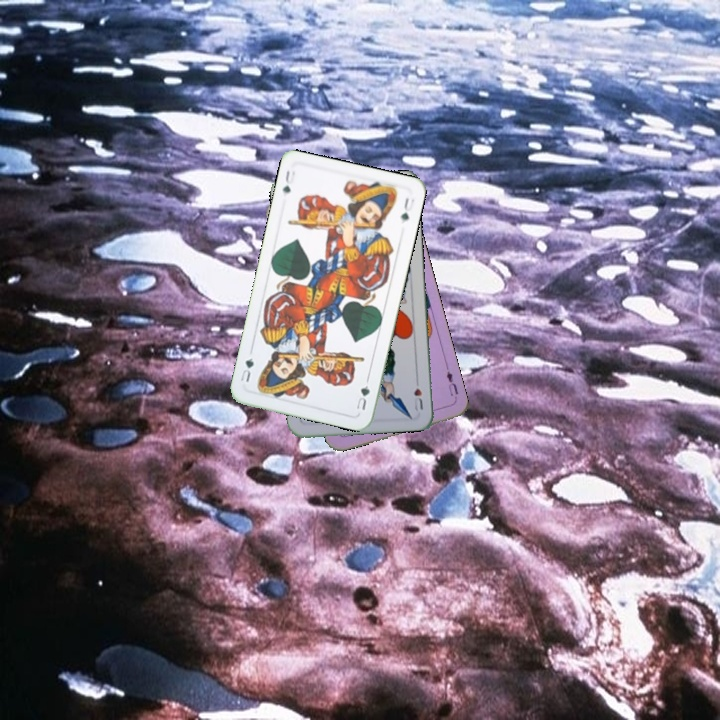EU: (442, 364, 461, 404)
GU: (353, 381, 372, 414), (278, 166, 298, 196)
HU: (410, 374, 425, 413)
